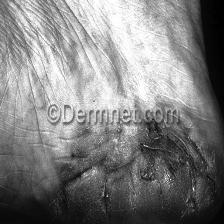Non-Cancerous Skin Condition: (72, 125, 216, 224)
